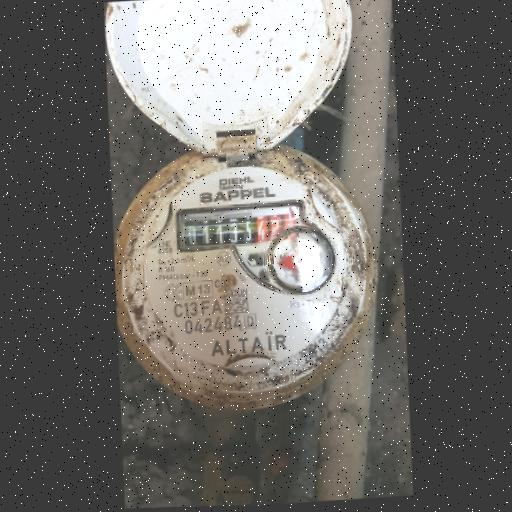0: (184, 221, 200, 247)
1: (199, 220, 214, 246), (213, 219, 228, 245)
2: (281, 207, 296, 232), (269, 214, 282, 239)
3: (227, 218, 242, 244)
4: (254, 216, 268, 243)
5: (241, 217, 255, 243)
border_water_meter_number: (175, 198, 307, 253)
